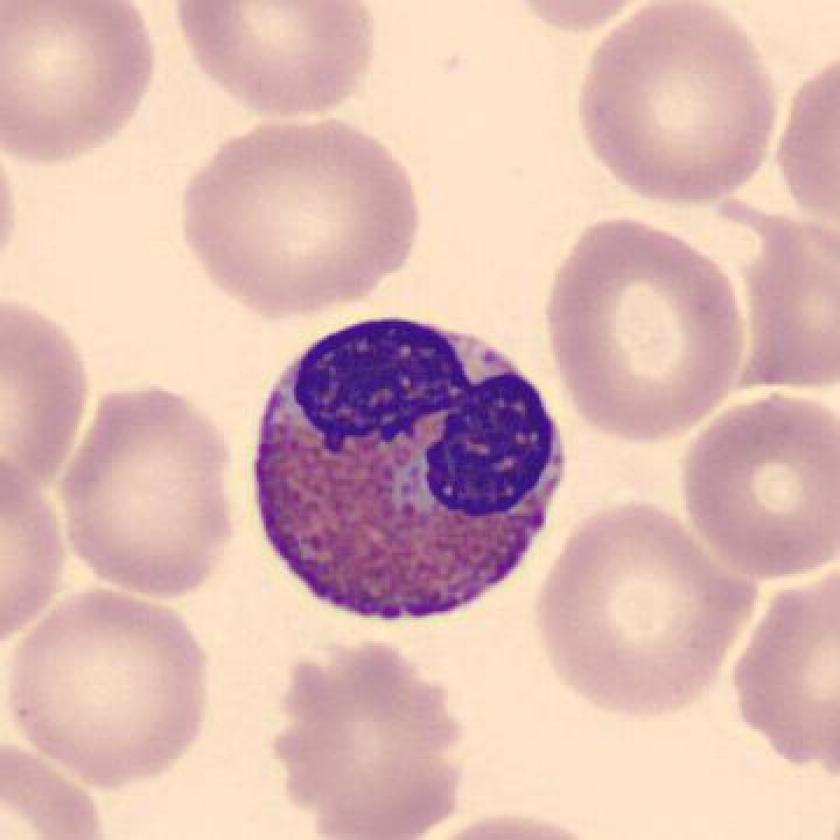eosinophil: (244, 304, 577, 631)
